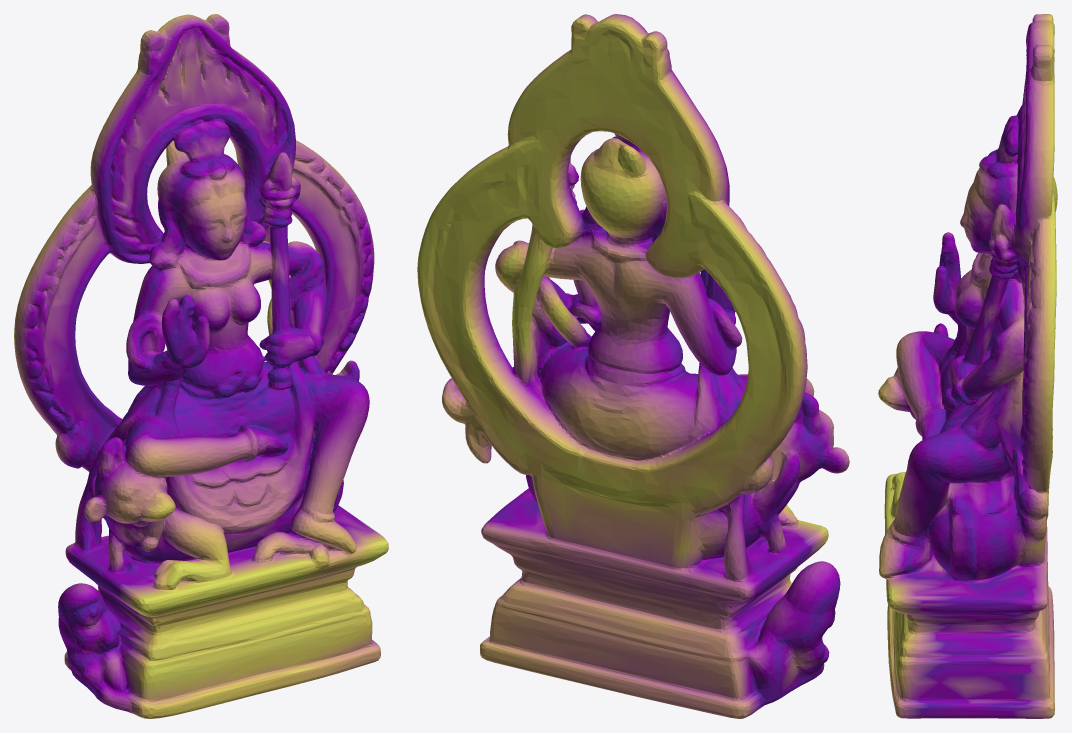
File: iter_3.glb
3 renders of one model, left to right at view 1: azimuth 30°, elevation 25°; view 2: azimuth 150°, elevation 25°; view 3: azimuth 270°, elevation 25°, orthographic. The views are drawn at different scales.
Parts seen in each view (by area): view 1: textured_mesh; view 2: textured_mesh; view 3: textured_mesh.
Boxes of the visible parts, x1,y1,x2,y2 form: textured_mesh: (14,14,388,718); textured_mesh: (417,14,849,718); textured_mesh: (878,14,1057,718).
Bounding box in the file's own units: 1.19 × 1.99 × 0.5087.
